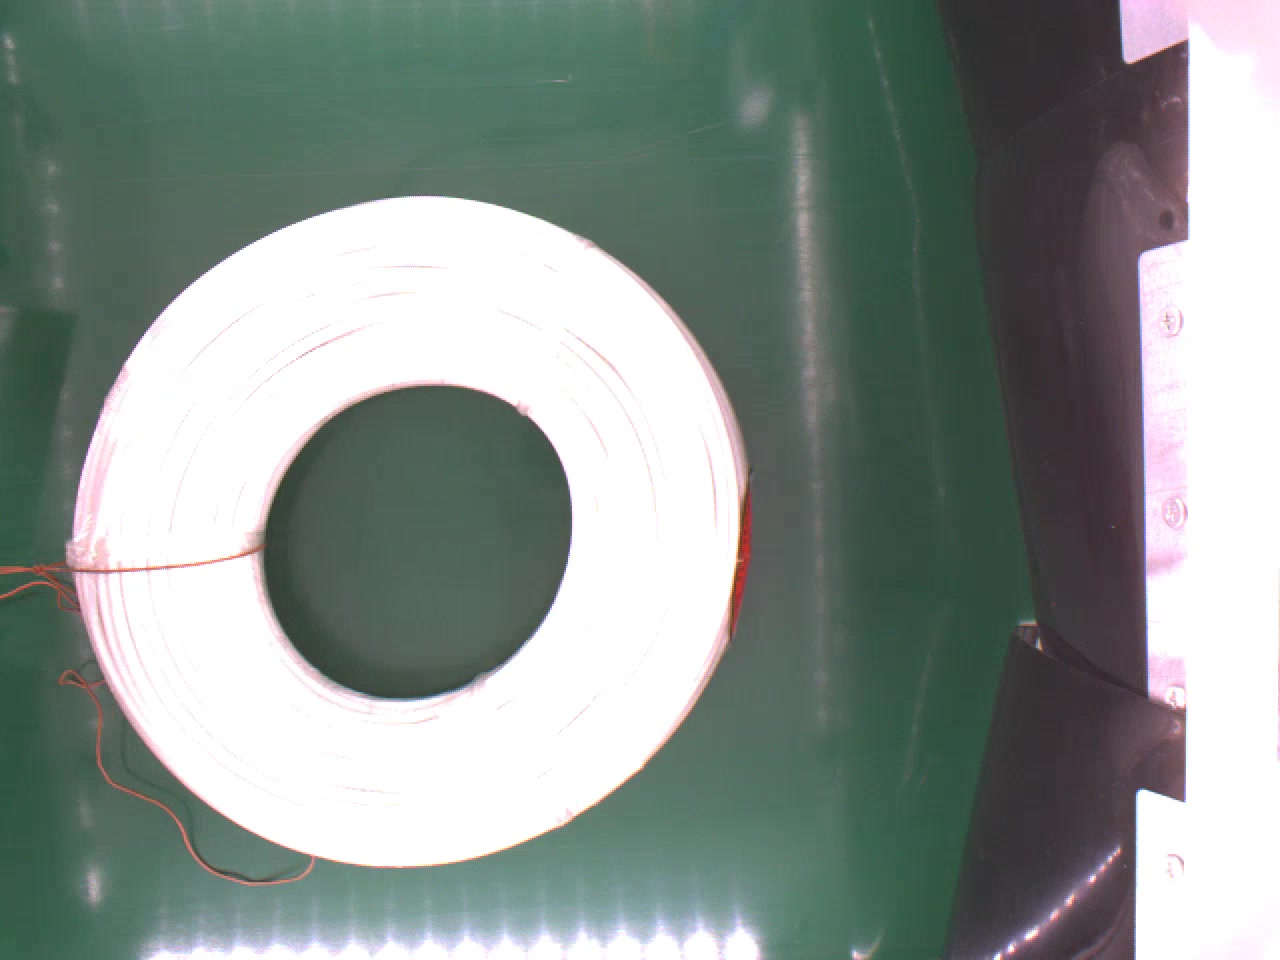white: (68, 189, 756, 870)
